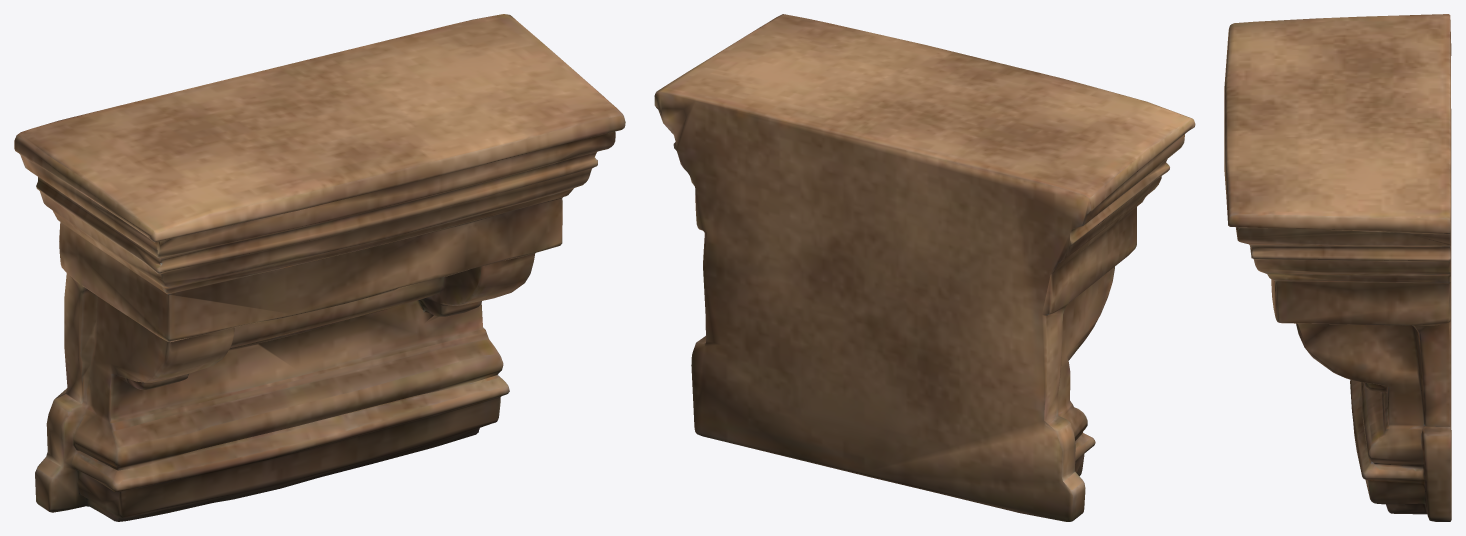
File: ancient-sandstone-balcony-v001.glb
The picture shows the model from 3 angles, left to right: view 1: azimuth 30°, elevation 25°; view 2: azimuth 150°, elevation 25°; view 3: azimuth 270°, elevation 25°; orthographic projection. The views are drawn at different scales.
Parts seen in each view (by area): view 1: ancient-sandstone-balcony; view 2: ancient-sandstone-balcony; view 3: ancient-sandstone-balcony.
Part boxes in pixels (box(x1,y1,x2,y2)): ancient-sandstone-balcony: box(14, 14, 625, 521); ancient-sandstone-balcony: box(654, 14, 1195, 521); ancient-sandstone-balcony: box(1224, 14, 1451, 521).
Bounding box in the file's own units: 1.44 × 1.07 × 0.6694.
1 material, 1 textured.
